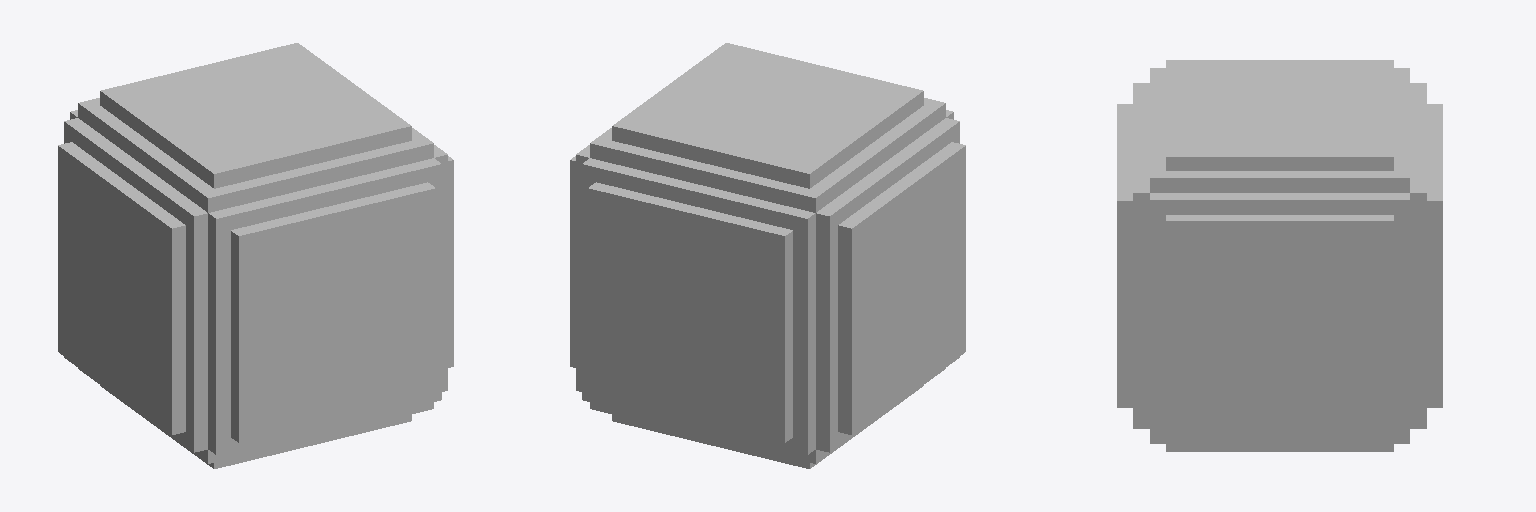
File: meteor.obj
The picture shows the model from 3 angles: view 1: azimuth 30°, elevation 25°; view 2: azimuth 150°, elevation 25°; view 3: azimuth 270°, elevation 25°; orthographic projection.
Parts seen in each view (by area): view 1: object 1; view 2: object 1; view 3: object 1.
Boxes of the visible parts, x1,y1,x2,y2 form: object 1: [58, 43, 453, 468]; object 1: [570, 43, 965, 468]; object 1: [1117, 60, 1442, 451].
Size of the model in its own units: 2 by 2 by 2.